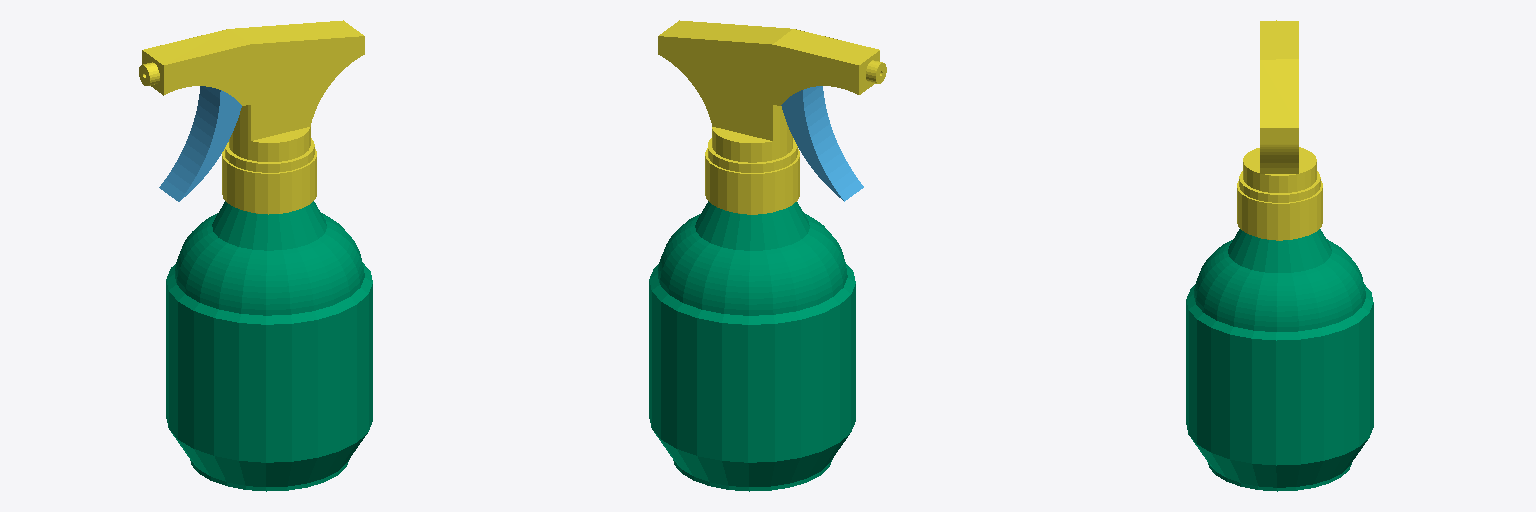
URDF robot description (partnet_9b9a4bb5550f00ea586350d6e78ecc7):
<?xml version="1.0" ?>
<robot name="partnet_9b9a4bb5550f00ea586350d6e78ecc7">
	<link name="base"/>
	<link name="link_0">
		<visual name="handle-4">
			<origin xyz="-0.06564000000000014 -0.7480250199354568 -0.21560559471696794"/>
			<geometry>
				<mesh filename="textured_objs/original-6.obj"/>
			</geometry>
		</visual>
		<visual name="handle-4">
			<origin xyz="-0.06564000000000014 -0.7480250199354568 -0.21560559471696794"/>
			<geometry>
				<mesh filename="textured_objs/original-9.obj"/>
			</geometry>
		</visual>
		<collision>
			<origin xyz="-0.06564000000000014 -0.7480250199354568 -0.21560559471696794"/>
			<geometry>
				<mesh filename="textured_objs/original-6.obj"/>
			</geometry>
		</collision>
		<collision>
			<origin xyz="-0.06564000000000014 -0.7480250199354568 -0.21560559471696794"/>
			<geometry>
				<mesh filename="textured_objs/original-9.obj"/>
			</geometry>
		</collision>
	</link>
	<joint name="joint_0" type="revolute">
		<origin xyz="0.07068949206633043 0.7480250199354568 0.22496710726585778"/>
		<axis xyz="1 0 0"/>
		<child link="link_0"/>
		<parent link="link_2"/>
		<limit lower="0.0" upper="0.36442474781641604"/>
	</joint>
	<link name="link_1">
		<visual name="base_body-10">
			<origin xyz="0 0 0"/>
			<geometry>
				<mesh filename="textured_objs/original-1.obj"/>
			</geometry>
		</visual>
		<collision>
			<origin xyz="0 0 0"/>
			<geometry>
				<mesh filename="textured_objs/original-1.obj"/>
			</geometry>
		</collision>
	</link>
	<joint name="joint_1" type="fixed">
		<origin rpy="1.570796326794897 0 -1.570796326794897" xyz="0 0 0"/>
		<child link="link_1"/>
		<parent link="base"/>
	</joint>
	<link name="link_2">
		<visual name="outlier-9">
			<origin xyz="0.005049492066330298 0 0.009361512548889846"/>
			<geometry>
				<mesh filename="textured_objs/original-5.obj"/>
			</geometry>
		</visual>
		<visual name="outlier-9">
			<origin xyz="0.005049492066330298 0 0.009361512548889846"/>
			<geometry>
				<mesh filename="textured_objs/original-7.obj"/>
			</geometry>
		</visual>
		<visual name="nose-8">
			<origin xyz="0.005049492066330298 0 0.009361512548889846"/>
			<geometry>
				<mesh filename="textured_objs/original-10.obj"/>
			</geometry>
		</visual>
		<visual name="nose-8">
			<origin xyz="0.005049492066330298 0 0.009361512548889846"/>
			<geometry>
				<mesh filename="textured_objs/original-11.obj"/>
			</geometry>
		</visual>
		<visual name="head-7">
			<origin xyz="0.005049492066330298 0 0.009361512548889846"/>
			<geometry>
				<mesh filename="textured_objs/original-8.obj"/>
			</geometry>
		</visual>
		<visual name="head-7">
			<origin xyz="0.005049492066330298 0 0.009361512548889846"/>
			<geometry>
				<mesh filename="textured_objs/original-2.obj"/>
			</geometry>
		</visual>
		<visual name="head-7">
			<origin xyz="0.005049492066330298 0 0.009361512548889846"/>
			<geometry>
				<mesh filename="textured_objs/original-3.obj"/>
			</geometry>
		</visual>
		<visual name="head-7">
			<origin xyz="0.005049492066330298 0 0.009361512548889846"/>
			<geometry>
				<mesh filename="textured_objs/original-4.obj"/>
			</geometry>
		</visual>
		<collision>
			<origin xyz="0.005049492066330298 0 0.009361512548889846"/>
			<geometry>
				<mesh filename="textured_objs/original-5.obj"/>
			</geometry>
		</collision>
		<collision>
			<origin xyz="0.005049492066330298 0 0.009361512548889846"/>
			<geometry>
				<mesh filename="textured_objs/original-7.obj"/>
			</geometry>
		</collision>
		<collision>
			<origin xyz="0.005049492066330298 0 0.009361512548889846"/>
			<geometry>
				<mesh filename="textured_objs/original-10.obj"/>
			</geometry>
		</collision>
		<collision>
			<origin xyz="0.005049492066330298 0 0.009361512548889846"/>
			<geometry>
				<mesh filename="textured_objs/original-11.obj"/>
			</geometry>
		</collision>
		<collision>
			<origin xyz="0.005049492066330298 0 0.009361512548889846"/>
			<geometry>
				<mesh filename="textured_objs/original-8.obj"/>
			</geometry>
		</collision>
		<collision>
			<origin xyz="0.005049492066330298 0 0.009361512548889846"/>
			<geometry>
				<mesh filename="textured_objs/original-2.obj"/>
			</geometry>
		</collision>
		<collision>
			<origin xyz="0.005049492066330298 0 0.009361512548889846"/>
			<geometry>
				<mesh filename="textured_objs/original-3.obj"/>
			</geometry>
		</collision>
		<collision>
			<origin xyz="0.005049492066330298 0 0.009361512548889846"/>
			<geometry>
				<mesh filename="textured_objs/original-4.obj"/>
			</geometry>
		</collision>
	</link>
	<joint name="joint_2" type="continuous">
		<origin xyz="0.0 0 0.0"/>
		<axis xyz="0 1 0"/>
		<child link="link_2"/>
		<parent link="link_2_helper"/>
	</joint>
	<link name="link_2_helper"/>
	<joint name="joint_3" type="prismatic">
		<origin xyz="-0.005049492066330298 0 -0.009361512548889846"/>
		<axis xyz="0 1 0"/>
		<child link="link_2_helper"/>
		<parent link="link_1"/>
		<limit lower="-0.04800000000000004" upper="-0.008000000000000007"/>
	</joint>
</robot>

--- Render facts (derived) ---
The picture shows the robot from 3 angles, left to right: view 1: azimuth 30°, elevation 25°; view 2: azimuth 150°, elevation 25°; view 3: azimuth 270°, elevation 25°; orthographic projection.
Robot: partnet_9b9a4bb5550f00ea586350d6e78ecc7 — 5 links, 4 joints (1 revolute, 1 continuous, 1 prismatic, 1 fixed); root link base; default pose: all joints at 0 but 1 set to mid-range because 0 is outside their limits (joint_3 = -0.028).
Links seen in each view (by area): view 1: link_1, link_2, link_0; view 2: link_1, link_2, link_0; view 3: link_1, link_2.
Boxes of the visible links, bbox=[...] form: link_1: bbox=[166, 201, 372, 491]; link_2: bbox=[139, 20, 364, 214]; link_0: bbox=[159, 86, 241, 201]; link_1: bbox=[649, 201, 855, 491]; link_2: bbox=[658, 20, 886, 214]; link_0: bbox=[781, 86, 863, 201]; link_1: bbox=[1186, 229, 1373, 491]; link_2: bbox=[1237, 20, 1322, 240].
Size in the robot's own frame: 0.8497 by 0.7029 by 1.61 metres.
11 mesh visuals loaded from 11 distinct referenced files (11 OBJ).